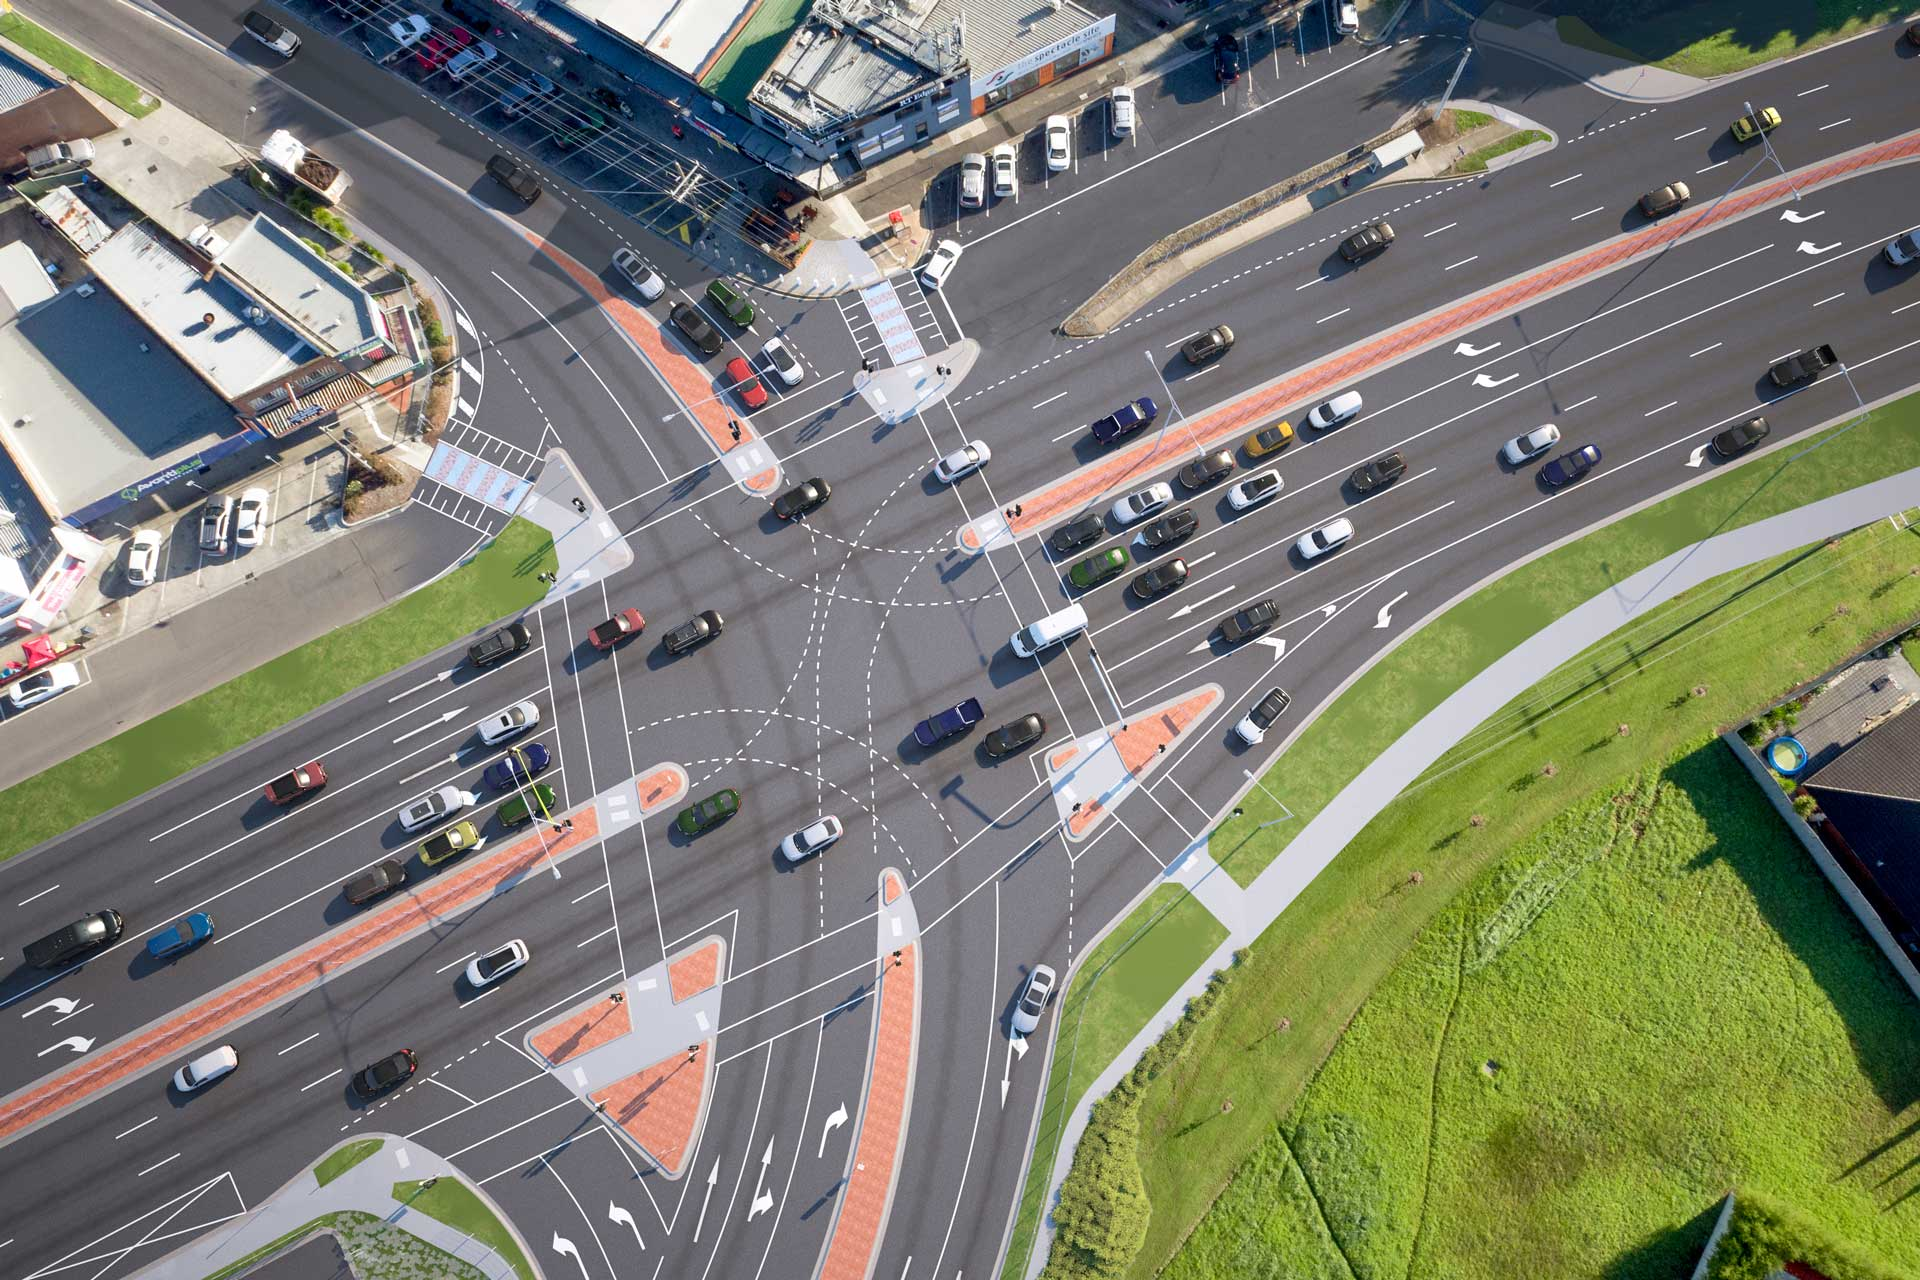car: (20, 906, 126, 979), (259, 129, 354, 206), (1007, 601, 1089, 659), (911, 694, 986, 749), (361, 13, 431, 67), (350, 1047, 419, 1101), (143, 911, 216, 961), (1233, 684, 1291, 746), (394, 784, 466, 834), (1767, 341, 1839, 391), (674, 786, 741, 839), (1010, 961, 1059, 1034), (7, 661, 80, 710), (1090, 394, 1159, 446), (483, 741, 551, 791), (170, 1044, 239, 1094), (464, 937, 530, 989), (341, 857, 409, 907), (779, 813, 846, 863), (981, 711, 1049, 761), (473, 699, 541, 747), (466, 621, 534, 670), (260, 761, 330, 809), (660, 609, 726, 659), (241, 9, 303, 59), (24, 136, 96, 179), (494, 781, 557, 830), (486, 153, 543, 206), (669, 301, 723, 356), (1110, 480, 1174, 526), (1539, 443, 1603, 489), (586, 606, 647, 653), (1217, 599, 1280, 644), (611, 247, 664, 301), (1711, 414, 1771, 461), (931, 439, 993, 484), (1130, 556, 1191, 601), (1177, 447, 1240, 491), (771, 476, 831, 521), (1500, 421, 1561, 466), (1067, 546, 1130, 589), (1339, 220, 1397, 266), (1226, 467, 1286, 511), (1349, 450, 1409, 494), (1294, 516, 1354, 560), (704, 277, 756, 329), (499, 71, 554, 117), (414, 27, 471, 71), (759, 334, 806, 387), (1141, 507, 1199, 550), (1306, 389, 1363, 431), (197, 493, 234, 559), (724, 356, 769, 410), (1180, 323, 1236, 366), (444, 39, 499, 81), (920, 239, 963, 291), (126, 527, 163, 587), (1050, 511, 1106, 551), (1636, 180, 1691, 220), (1729, 106, 1783, 144), (234, 489, 269, 549), (553, 110, 606, 149), (1241, 420, 1294, 459), (183, 223, 231, 260), (1881, 226, 1920, 267), (959, 151, 986, 209), (1213, 31, 1241, 84), (991, 141, 1017, 199), (1109, 84, 1134, 139), (1046, 114, 1070, 171), (1333, 1, 1360, 36)
